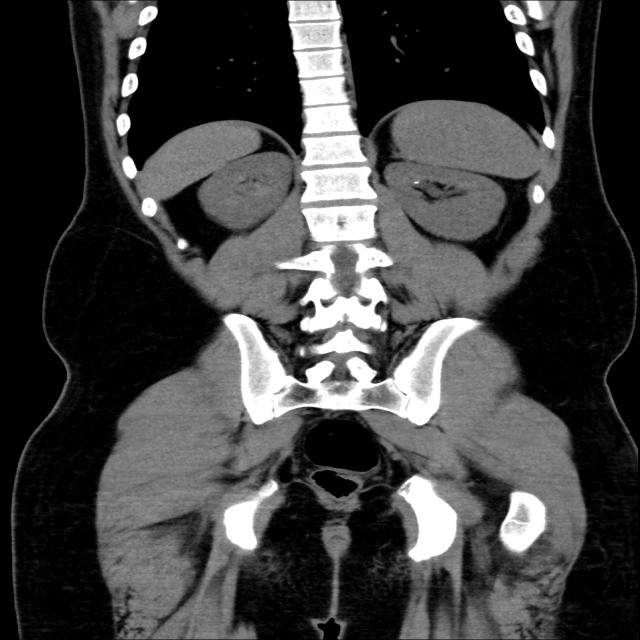kidneystone: (413, 181, 420, 184)
